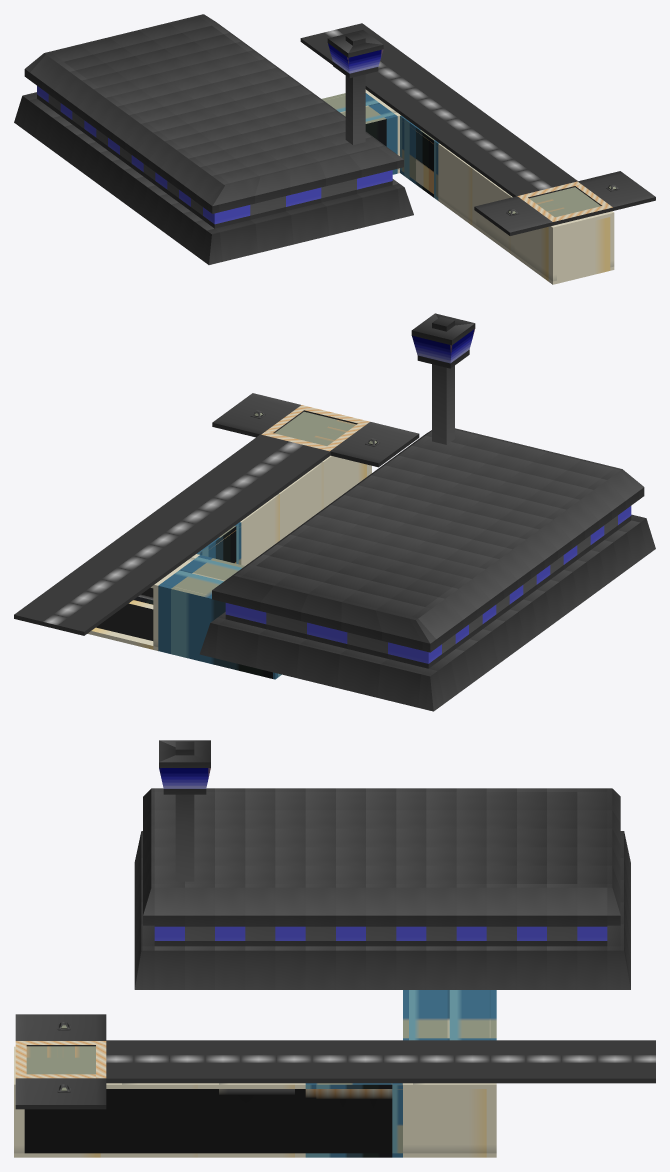
Rendered from spaceport.fbx.
3 renders of one model, top to bottom at view 1: azimuth 30°, elevation 25°; view 2: azimuth 150°, elevation 25°; view 3: azimuth 270°, elevation 25°, orthographic. The views are drawn at different scales.
Parts seen in each view (by area): view 1: spaceport, runway, tunnelend, taxiterminal, tower, tunnel_1, tunnel, terminal, tunnel_2, door_1, door; view 2: spaceport, runway, terminal, taxiterminal, tower, junction, tunnel_2, tunnel_1, tunnelend, tunnel, door_1, door; view 3: spaceport, runway, tunnel, tunnel_1, tunnel_2, junction, taxiterminal, tunnelend, terminal, tower, door_1, door.
Boxes of the visible parts, left/top/right/bottom form: spaceport: left=14, top=14, right=413, bottom=264; runway: left=300, top=23, right=577, bottom=196; tunnelend: left=514, top=211, right=614, bottom=284; taxiterminal: left=474, top=171, right=655, bottom=235; tower: left=327, top=30, right=383, bottom=144; tunnel_1: left=438, top=143, right=477, bottom=228; tunnel: left=400, top=115, right=438, bottom=200; terminal: left=322, top=93, right=397, bottom=174; tunnel_2: left=476, top=171, right=514, bottom=256; door_1: left=548, top=187, right=600, bottom=211; door: left=529, top=194, right=578, bottom=217; spaceport: left=199, top=428, right=655, bottom=711; runway: left=14, top=434, right=330, bottom=635; terminal: left=158, top=555, right=281, bottom=679; taxiterminal: left=212, top=393, right=419, bottom=467; tower: left=411, top=313, right=475, bottom=444; junction: left=87, top=554, right=199, bottom=650; tunnel_2: left=283, top=458, right=328, bottom=536; tunnel_1: left=240, top=490, right=284, bottom=565; tunnelend: left=327, top=455, right=371, bottom=504; tunnel: left=133, top=522, right=241, bottom=604; door_1: left=275, top=411, right=329, bottom=440; door: left=305, top=418, right=356, bottom=445; spaceport: left=134, top=788, right=630, bottom=989; runway: left=106, top=1040, right=655, bottom=1083; tunnel: left=305, top=1083, right=402, bottom=1157; tunnel_1: left=208, top=1083, right=305, bottom=1157; tunnel_2: left=111, top=1083, right=208, bottom=1157; junction: left=403, top=1083, right=496, bottom=1157; taxiterminal: left=15, top=1014, right=106, bottom=1109; tunnelend: left=14, top=1046, right=111, bottom=1157; terminal: left=403, top=990, right=496, bottom=1040; tower: left=159, top=740, right=210, bottom=881; door_1: left=26, top=1059, right=95, bottom=1074; door: left=26, top=1046, right=95, bottom=1061.
Bounding box in the file's own units: 351 × 193 × 383.
1 material, 1 textured.
